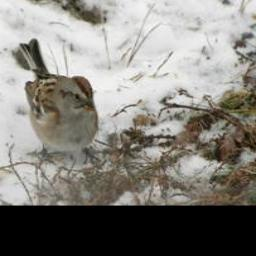Sparrow: (13, 36, 105, 167)
